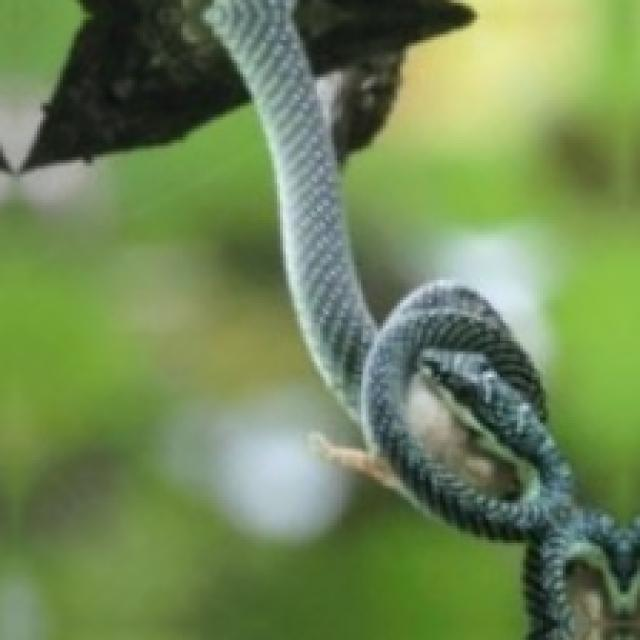paradise tree snake: (206, 0, 637, 637), (403, 363, 537, 500)
